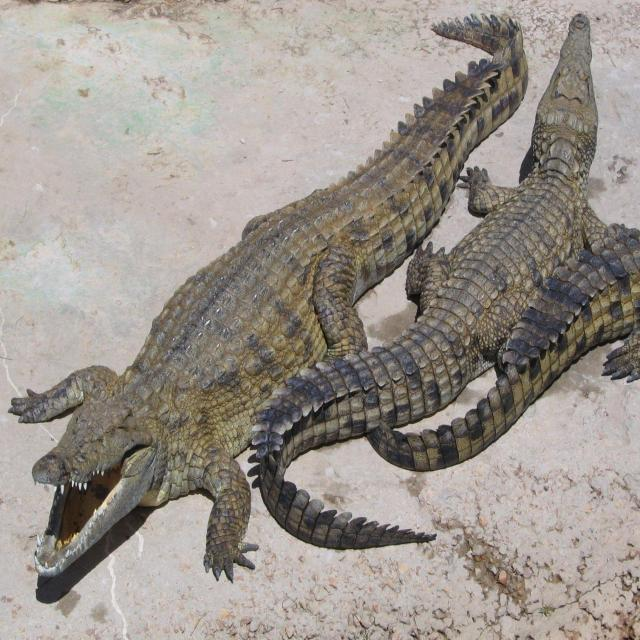crocodile: (9, 5, 640, 578)
